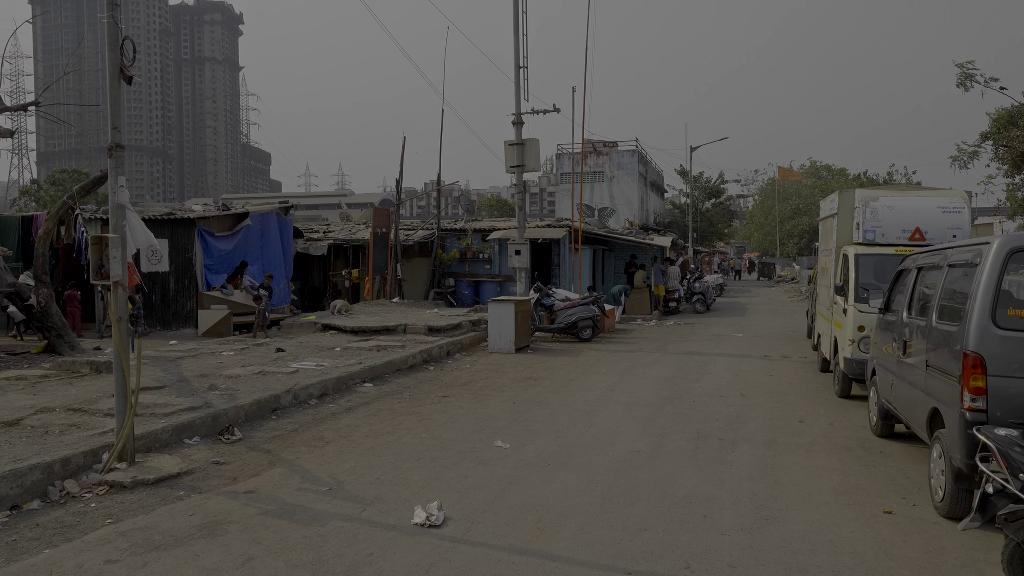garbage: (409, 498, 448, 535)
